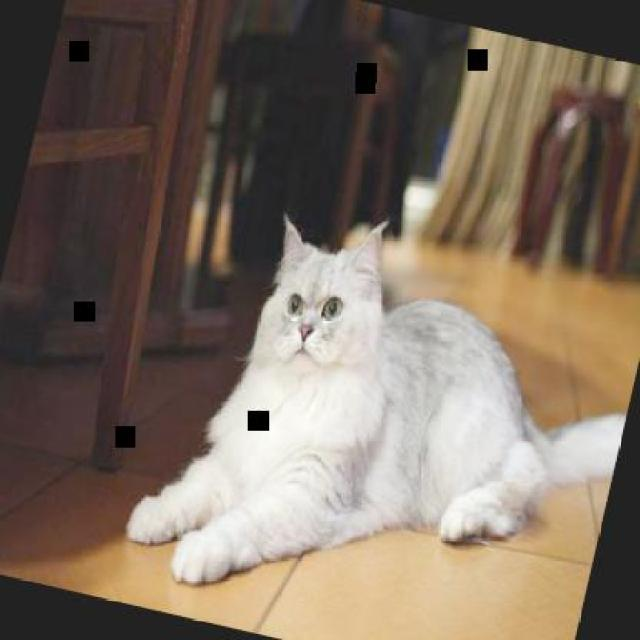cat: (117, 184, 638, 638)
